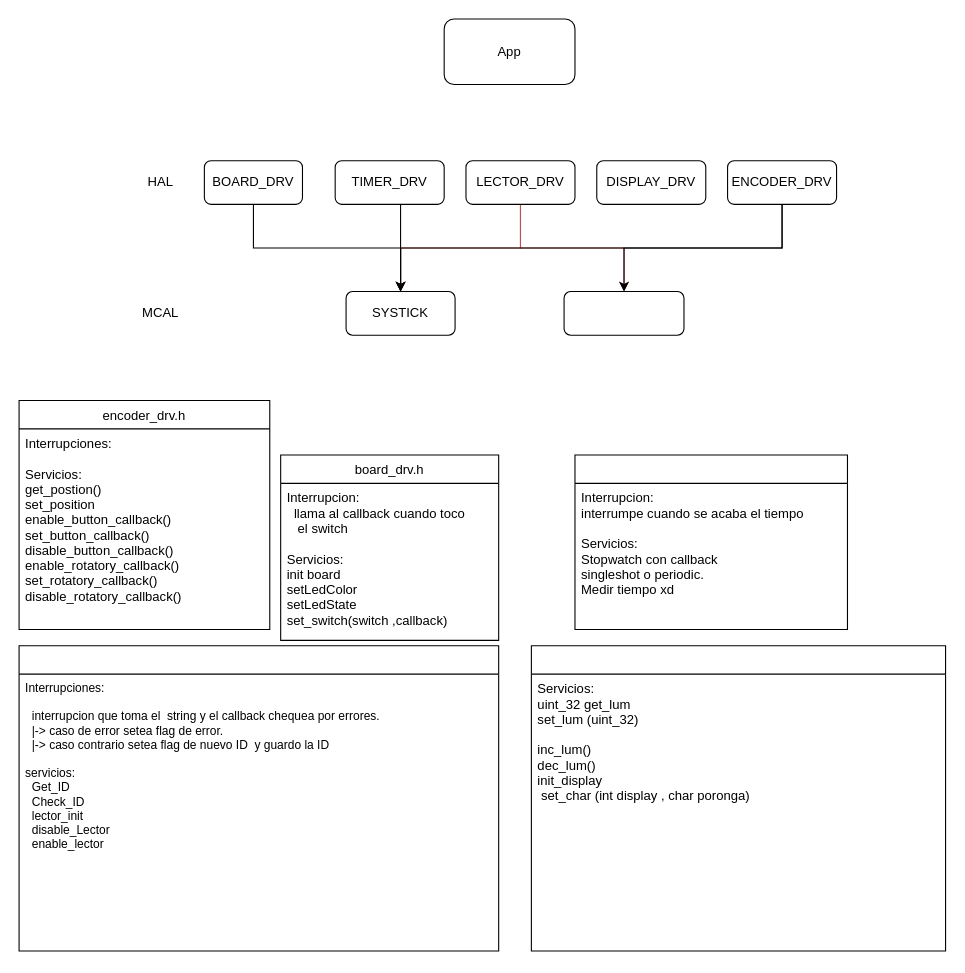
Image size: 965x973. Some labels were removed from this diagram. Here are the shapes that lost their labels. From the top down, the box of each, then its label:
(563, 290, 684, 335): GPIO
(574, 454, 847, 629): timer_drv.h
(18, 645, 499, 951): lector_drv.h
(530, 645, 946, 951): display_drv.h
